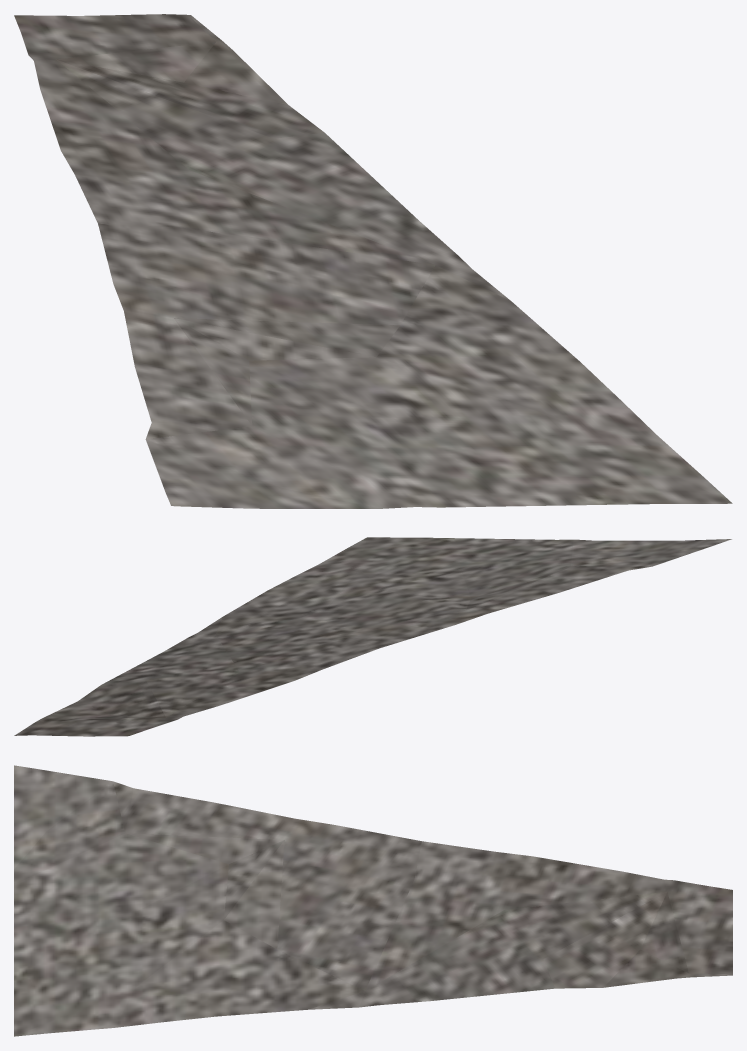
The picture shows the model from 3 angles, top to bottom: view 1: azimuth 30°, elevation 25°; view 2: azimuth 150°, elevation 25°; view 3: azimuth 270°, elevation 25°; orthographic projection. The views are drawn at different scales.
Size of the model in its own units: 0.501 by 0.1149 by 0.8374.
Materials: 1 (1 with a texture image).
